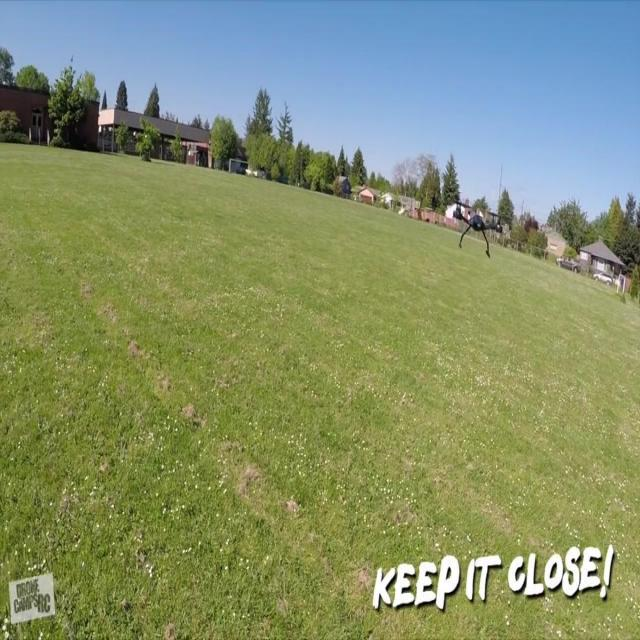UAV: (453, 201, 503, 259)
